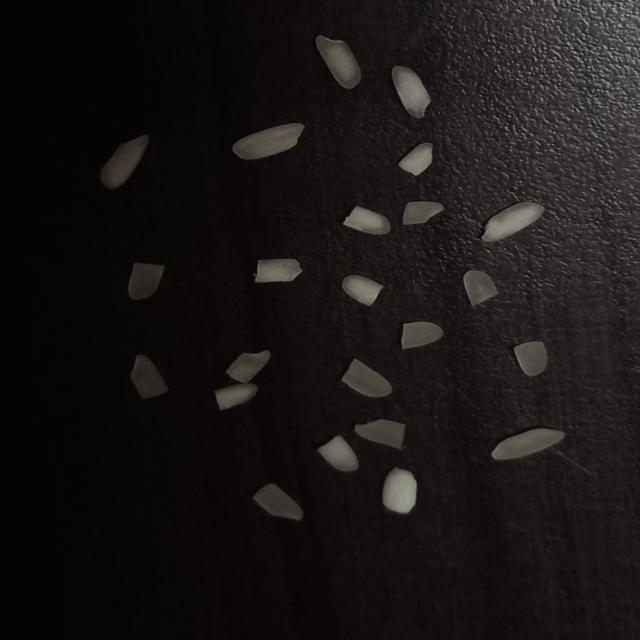Broken: (100, 135, 150, 189), (232, 123, 304, 160), (481, 202, 545, 242), (315, 35, 362, 89), (340, 358, 393, 398), (392, 65, 432, 118), (253, 483, 304, 521), (130, 354, 169, 399), (382, 467, 418, 514), (355, 419, 406, 450), (317, 434, 358, 472), (225, 350, 271, 383), (128, 262, 166, 300), (342, 206, 392, 234), (463, 269, 499, 307), (342, 274, 384, 306), (254, 258, 303, 283), (514, 341, 548, 377), (398, 142, 434, 176), (402, 321, 444, 350), (215, 383, 258, 410), (402, 201, 444, 225)
Full: (491, 427, 565, 460)
